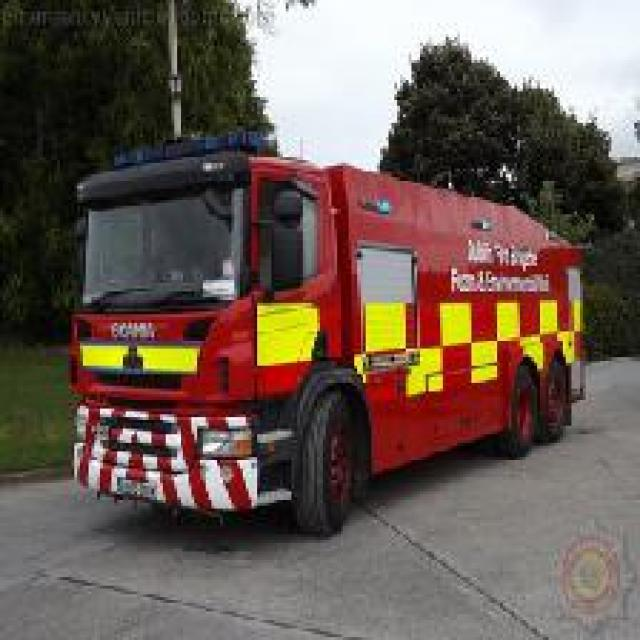Fire-truck: (63, 129, 588, 537)
